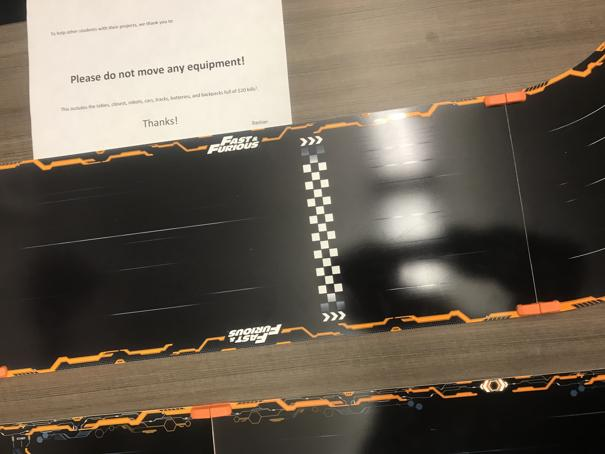Finish Line: (299, 135, 348, 322)
